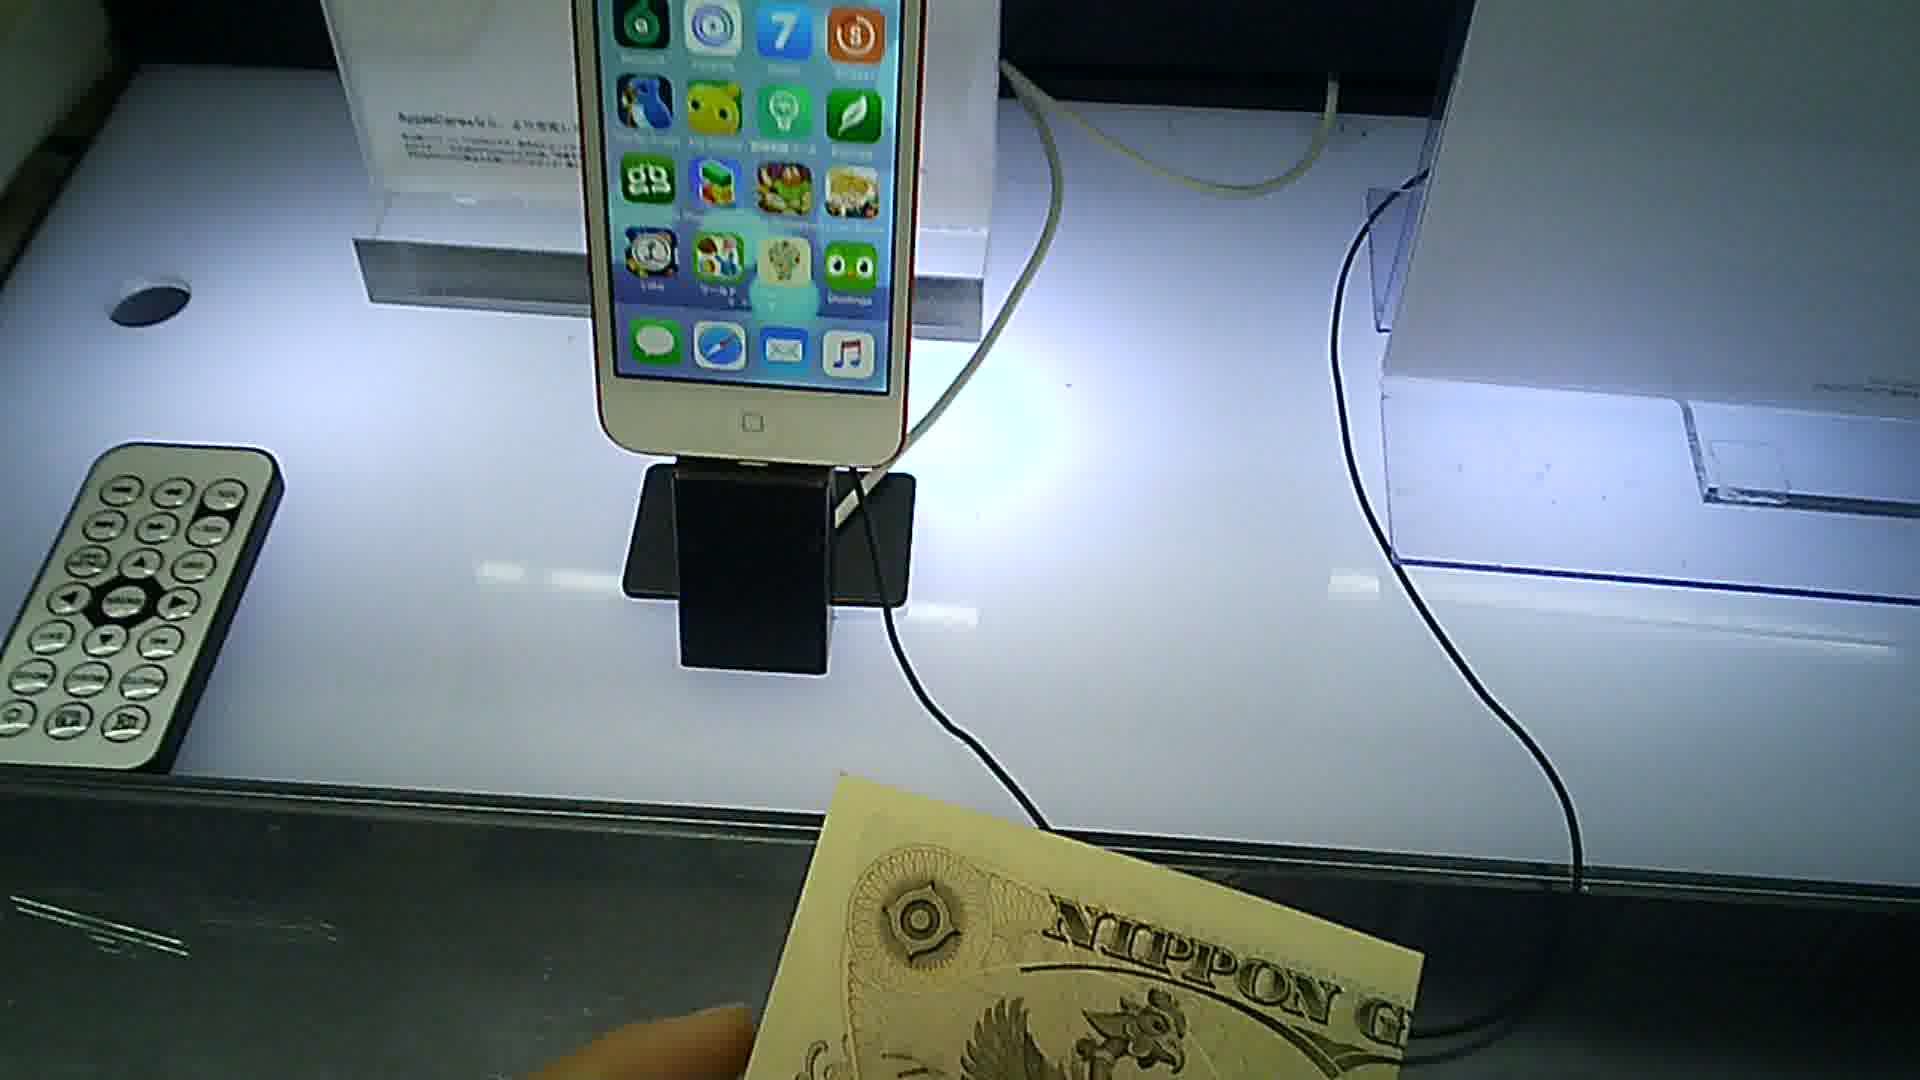10,000 Yen: (715, 752, 1432, 1077)
